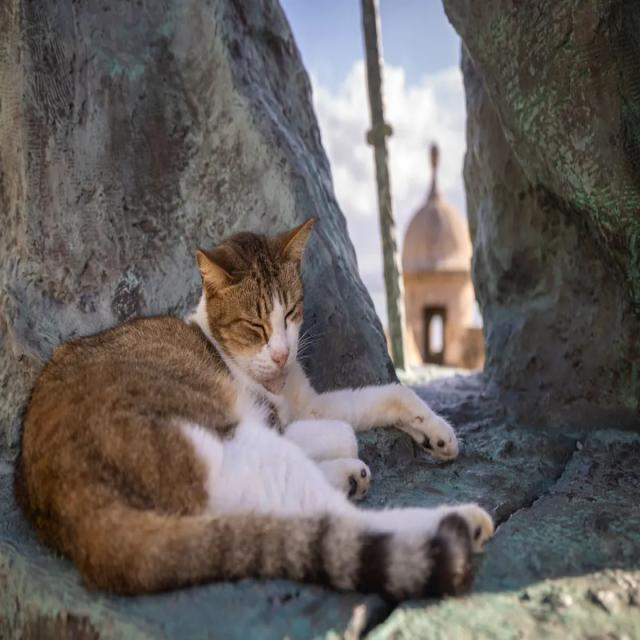cat: (15, 219, 492, 598)
